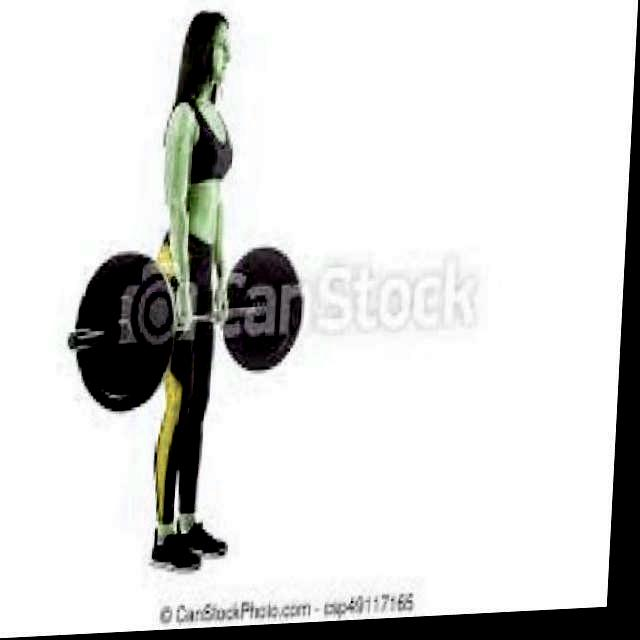barbell: (61, 243, 182, 420)
